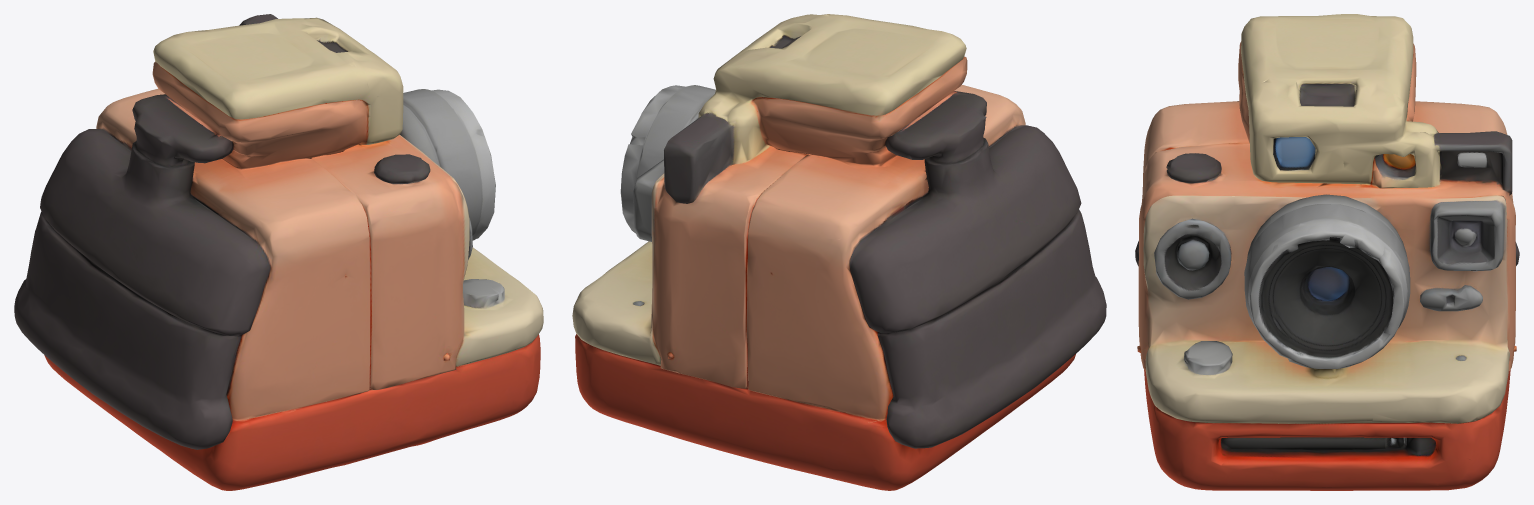
Rendered from instant-camera.glb.
The picture shows the model from 3 angles, left to right: view 1: azimuth 30°, elevation 25°; view 2: azimuth 150°, elevation 25°; view 3: azimuth 270°, elevation 25°; orthographic projection.
Visible parts, largest first — view 1: tripo_node_59ae29ac-4de2-4621-a5cf-95727b9e7cc1; view 2: tripo_node_59ae29ac-4de2-4621-a5cf-95727b9e7cc1; view 3: tripo_node_59ae29ac-4de2-4621-a5cf-95727b9e7cc1.
Boxes of the visible parts, x1,y1,x2,y2 form: tripo_node_59ae29ac-4de2-4621-a5cf-95727b9e7cc1: (14, 14, 543, 490); tripo_node_59ae29ac-4de2-4621-a5cf-95727b9e7cc1: (572, 14, 1106, 490); tripo_node_59ae29ac-4de2-4621-a5cf-95727b9e7cc1: (1135, 14, 1519, 490).
Size of the model in its own units: 1 by 0.8673 by 0.8512.
Materials: 1 (1 with a texture image).
